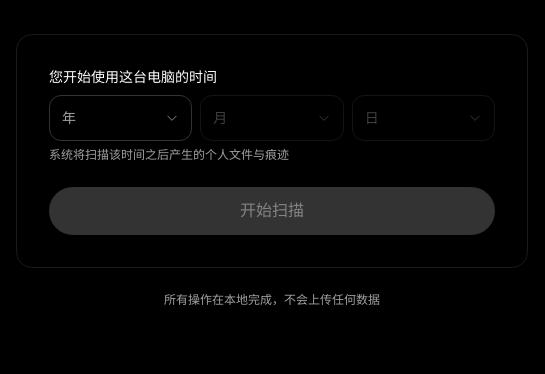
Test case: InputPage › shows error message when startScan fails
Click the button "年" at (121, 118), box [49,95,192,141]
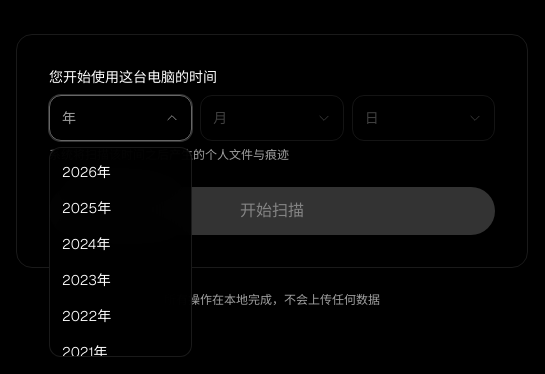
Click the button "2022年" at (121, 316), box [50,298,191,334]
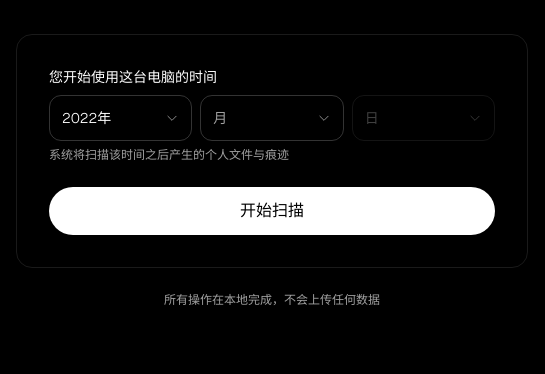
Click the button "开始扫描" at (272, 211), box [49,187,495,235]
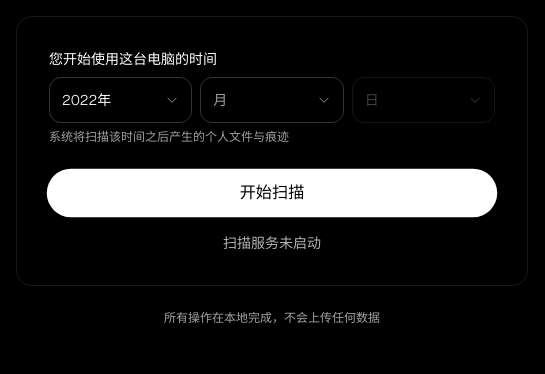
Expected: the text "扫描服务未启动" is shown, [223,234,321,252]
